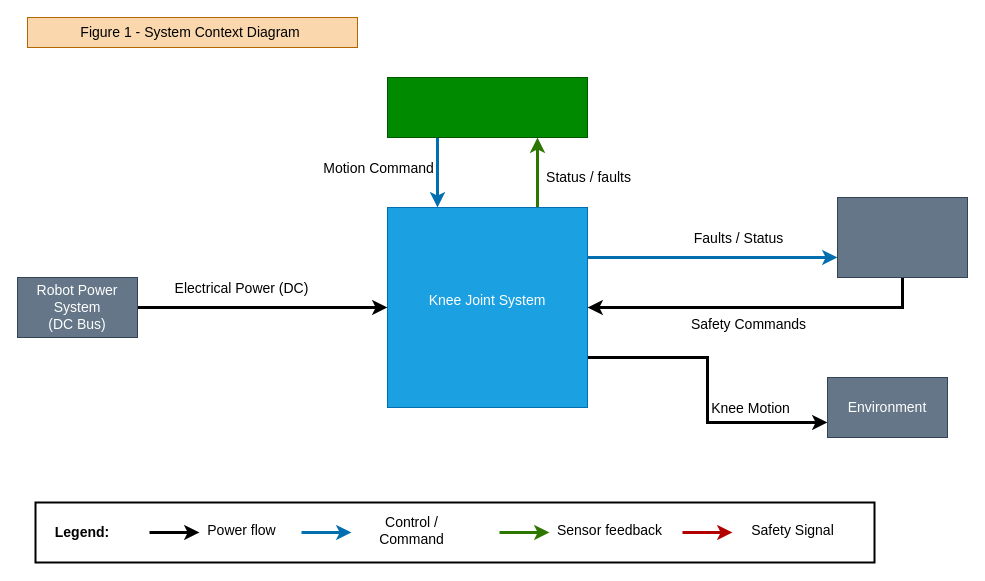
The diagram is 985 pixels wide and 581 high, and some of its shapes have lost their labels. Here are the shapes that lost their labels. From the top down, the centre of each, then its label:
At point (487, 107): "Whole-Body Motion Controller".
At point (902, 237): "Robot-Level Safety Supervisor".
